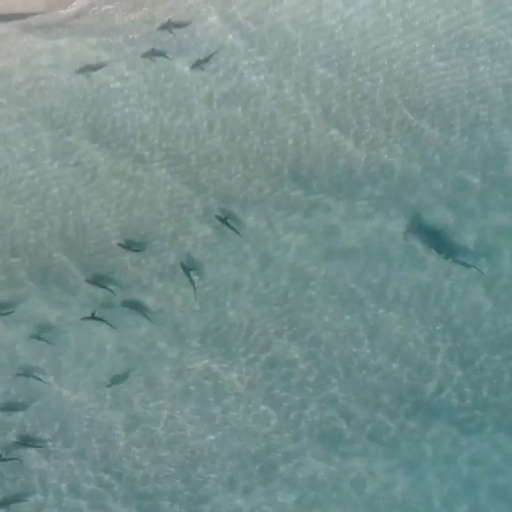shark: (400, 211, 486, 278)
